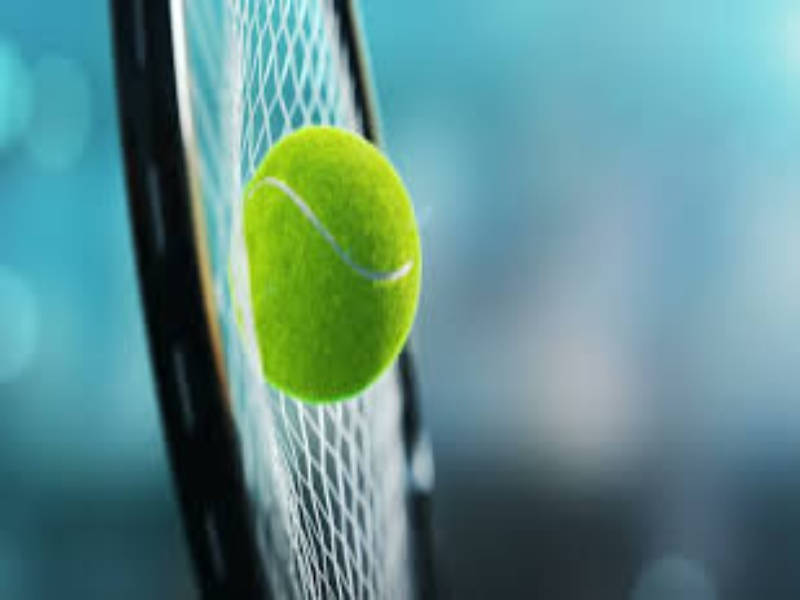tennis ball: (239, 113, 432, 416)
